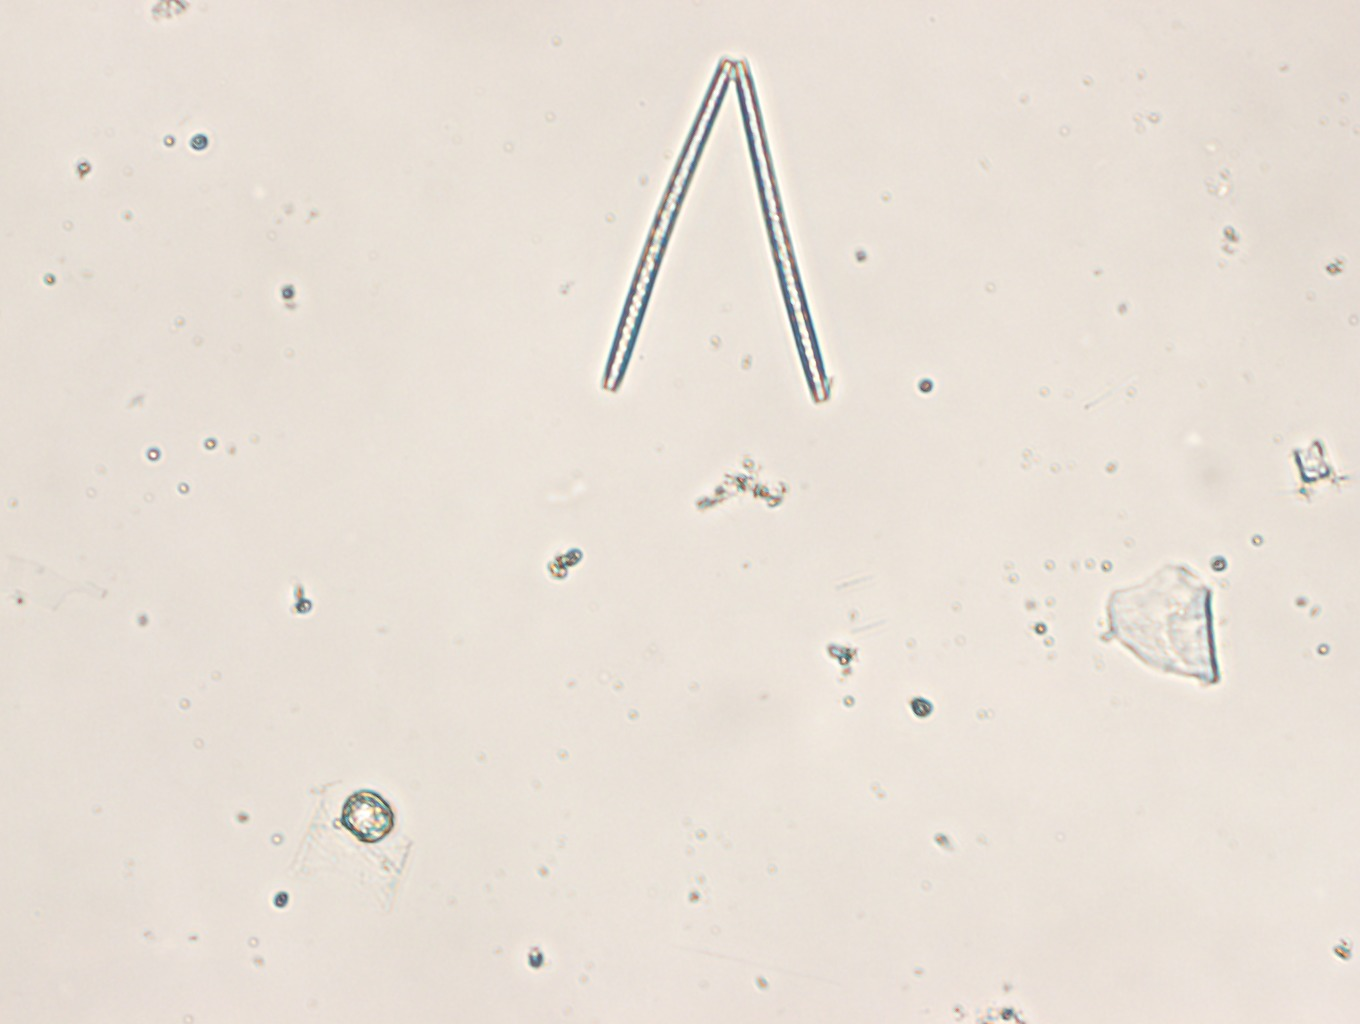thalassionema nitzschioides: (600, 49, 832, 402)
